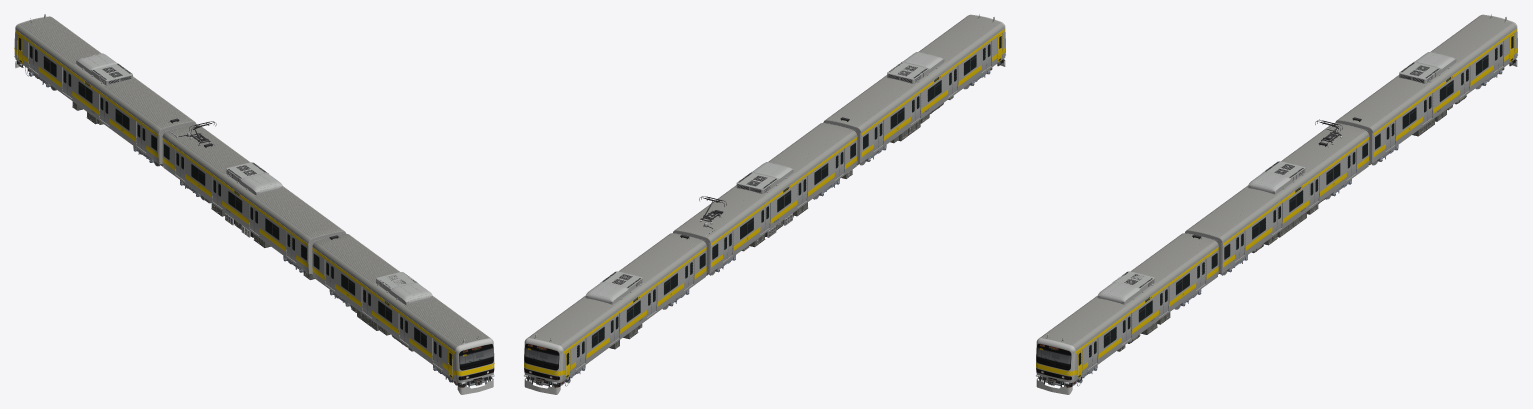
File: e231-sobu.glb
The picture shows the model from 3 angles, left to right: view 1: azimuth 30°, elevation 25°; view 2: azimuth 150°, elevation 25°; view 3: azimuth 330°, elevation 25°; orthographic projection.
Visible parts, largest first — view 1: car0_body, car2_body, car1_body, car1_gear, car0_gear, car2_gear; view 2: car2_body, car0_body, car1_body, car1_gear, car2_gear, car0_gear; view 3: car0_body, car2_body, car1_body, car1_gear, car0_gear, car2_gear.
Boxes of the visible parts, x1=… form: car0_body: x1=312, y1=234, x2=494, y2=394; car2_body: x1=14, y1=16, x2=196, y2=164; car1_body: x1=162, y1=124, x2=345, y2=274; car1_gear: x1=166, y1=121, x2=342, y2=279; car0_gear: x1=316, y1=233, x2=494, y2=387; car2_gear: x1=14, y1=14, x2=192, y2=166; car2_body: x1=524, y1=233, x2=706, y2=394; car0_body: x1=823, y1=14, x2=1005, y2=163; car1_body: x1=673, y1=123, x2=857, y2=273; car1_gear: x1=677, y1=122, x2=853, y2=275; car2_gear: x1=524, y1=233, x2=702, y2=387; car0_gear: x1=827, y1=14, x2=1005, y2=165; car0_body: x1=1036, y1=233, x2=1218, y2=394; car2_body: x1=1335, y1=14, x2=1517, y2=163; car1_body: x1=1185, y1=123, x2=1369, y2=273; car1_gear: x1=1189, y1=119, x2=1365, y2=275; car0_gear: x1=1036, y1=233, x2=1214, y2=387; car2_gear: x1=1339, y1=14, x2=1517, y2=165.
Bounding box in the file's own units: 3.06 × 5.04 × 60.2.
5 materials, 5 textured.
